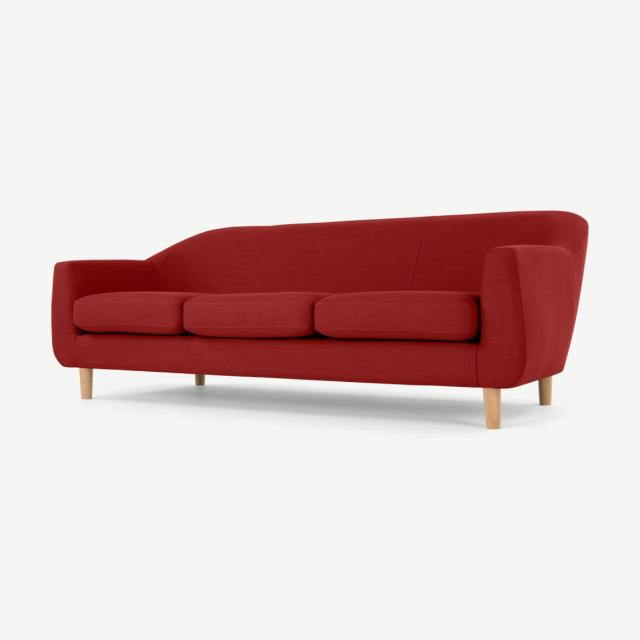back_cushion: (151, 211, 587, 293)
left_arm: (476, 245, 577, 404)
legs: (483, 388, 500, 429), (79, 368, 92, 399), (539, 378, 550, 405), (195, 374, 204, 385)
right_arm: (51, 260, 159, 365)
seat_cushion: (59, 291, 495, 386)
stallion-sofa: (0, 0, 639, 639)
